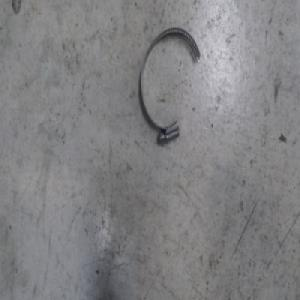AdjustableClamp: (138, 26, 201, 146)
